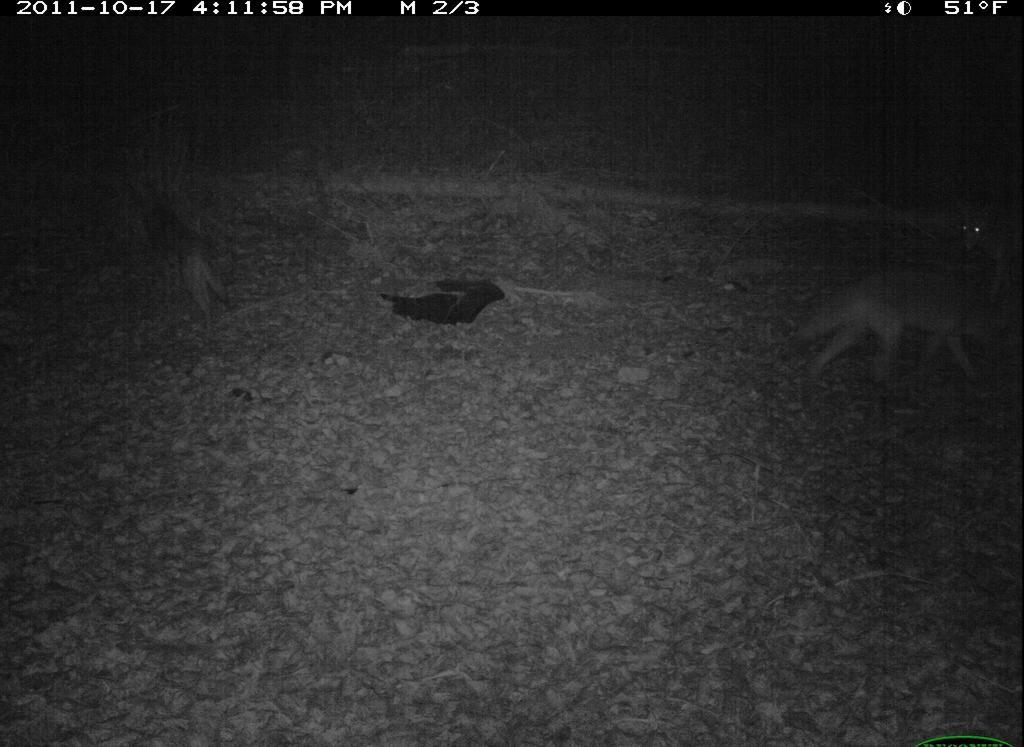coyote: (784, 263, 1014, 415), (116, 181, 251, 346)
